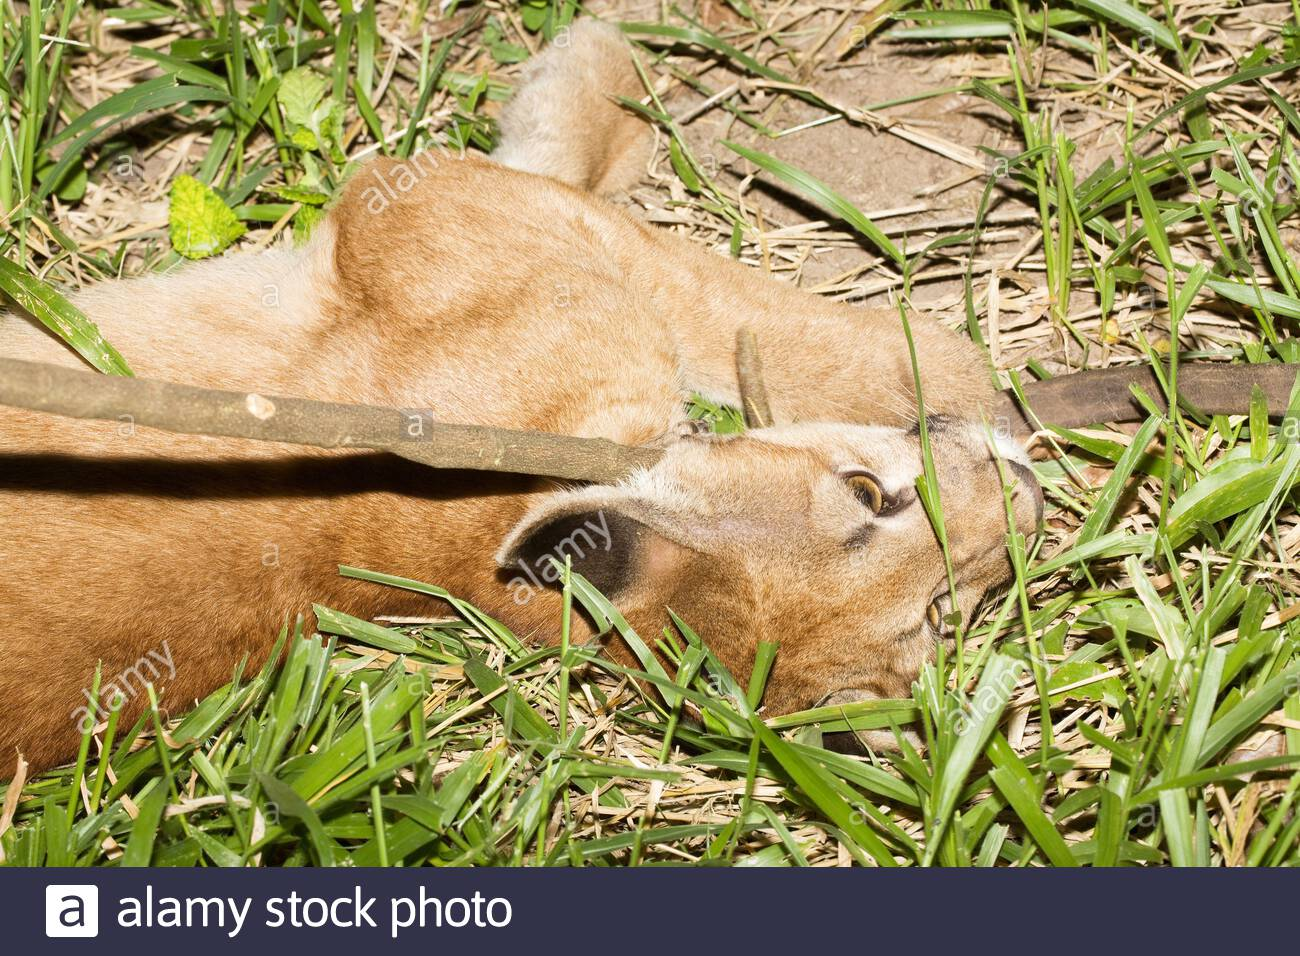OncaParda: (15, 32, 1072, 792)
